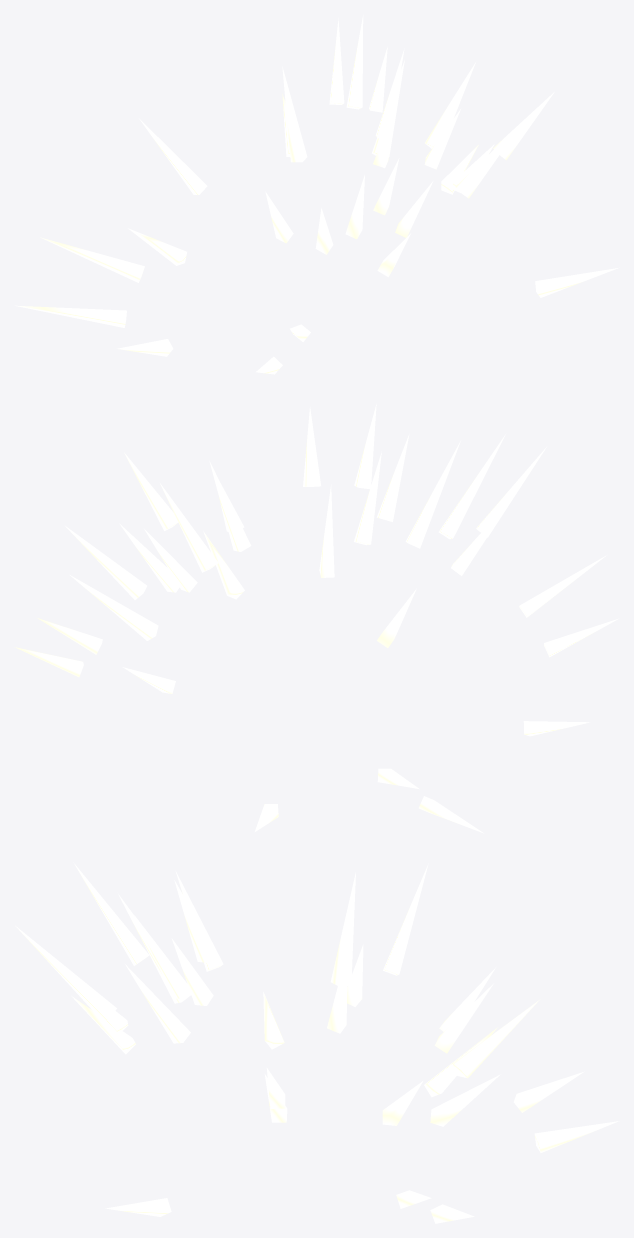
File: fx_burst_gold.glb
3 views of the same model, one above another, from view 1: azimuth 30°, elevation 25°; view 2: azimuth 150°, elevation 25°; view 3: azimuth 270°, elevation 25° (orthographic). The views are drawn at different scales.
Visible parts, largest first — view 1: fx_burst_gold; view 2: fx_burst_gold; view 3: fx_burst_gold.
Boxes of the visible parts, x1=… form: fx_burst_gold: x1=15, y1=15, x2=619, y2=374; fx_burst_gold: x1=14, y1=404, x2=618, y2=833; fx_burst_gold: x1=15, y1=862, x2=619, y2=1223.
Size of the model in its own units: 2.02 by 1.13 by 2.01.
